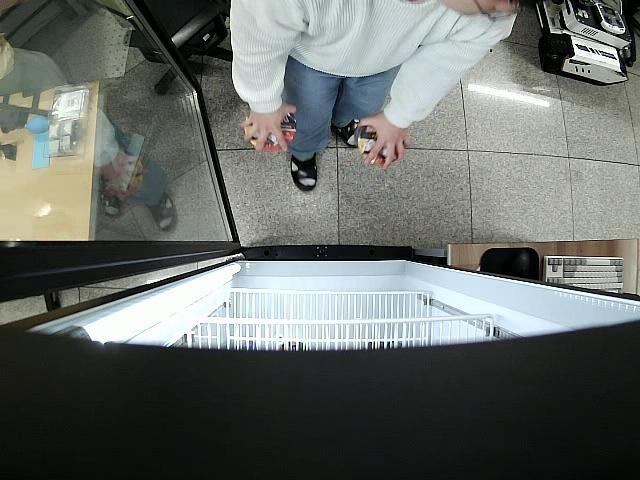07_buldak_L: (356, 124, 404, 167), (246, 114, 296, 154)
